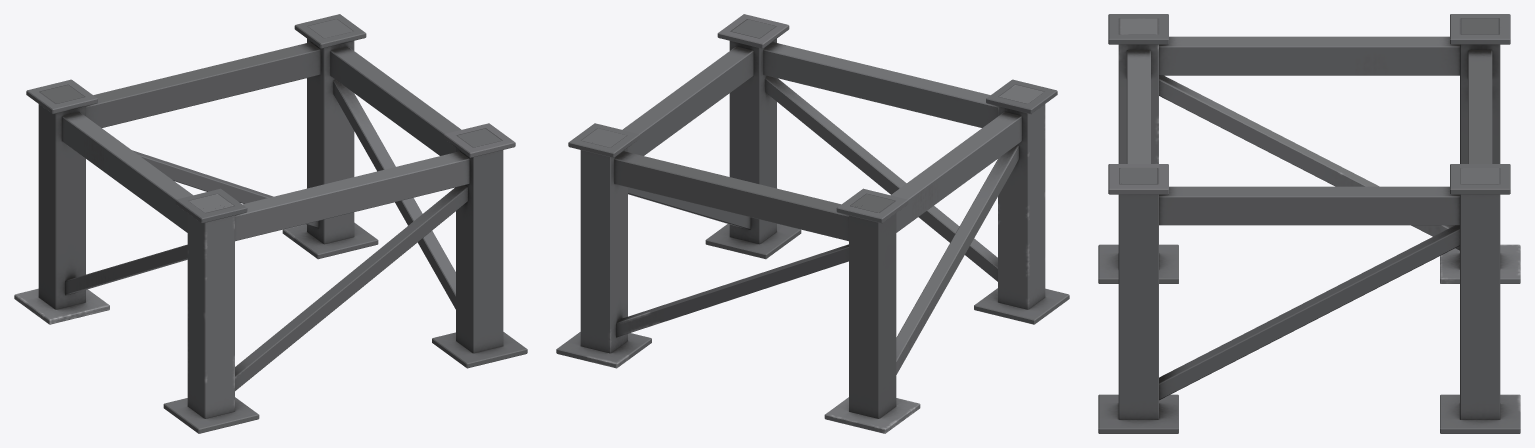
Rendered from nodexeus-set-legs-3.glb.
3 views of the same model, side by side, from view 1: azimuth 30°, elevation 25°; view 2: azimuth 150°, elevation 25°; view 3: azimuth 270°, elevation 25° (orthographic). The views are drawn at different scales.
Visible parts, largest first — view 1: set-legs-3; view 2: set-legs-3; view 3: set-legs-3.
Part boxes in pixels (x1=…): set-legs-3: x1=14, y1=14, x2=527, y2=433; set-legs-3: x1=556, y1=14, x2=1069, y2=433; set-legs-3: x1=1098, y1=14, x2=1520, y2=433.
Size of the model in its own units: 6.63 by 4.05 by 6.43.
1 material, 1 textured.
